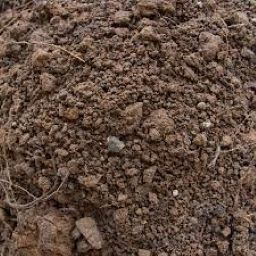dirt: (1, 0, 251, 250)
